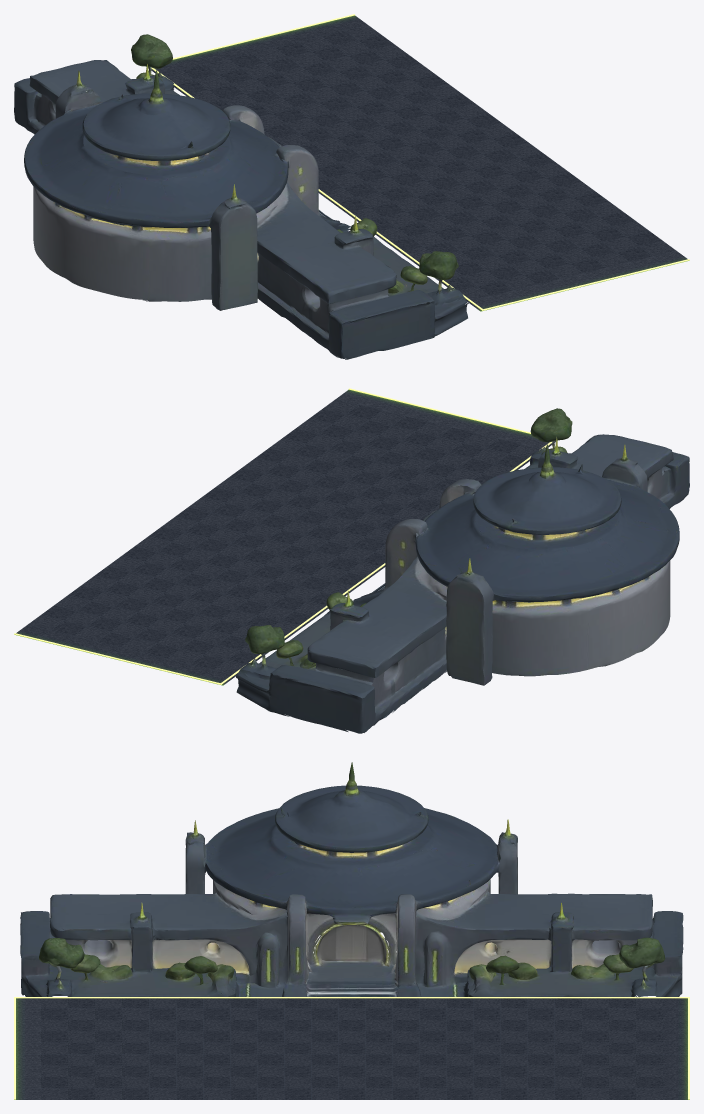
Rendered from arena_combined.glb.
The picture shows the model from 3 angles, top to bottom: view 1: azimuth 30°, elevation 25°; view 2: azimuth 150°, elevation 25°; view 3: azimuth 270°, elevation 25°; orthographic projection.
Visible parts, largest first — view 1: geometry_0, geometry_1, geometry_2; view 2: geometry_0, geometry_1, geometry_2; view 3: geometry_0, geometry_1, geometry_2.
Part boxes in pixels (x1,y1,x2,y2): geometry_0: [14, 34, 468, 359]; geometry_1: [146, 15, 689, 311]; geometry_2: [151, 14, 689, 310]; geometry_0: [236, 408, 689, 733]; geometry_1: [14, 389, 557, 685]; geometry_2: [14, 388, 552, 684]; geometry_0: [20, 762, 683, 997]; geometry_1: [14, 998, 689, 1099]; geometry_2: [14, 997, 689, 1099].
Bounding box in the file's own units: 82.39 × 29.1 × 100.
3 materials, 2 textured.
